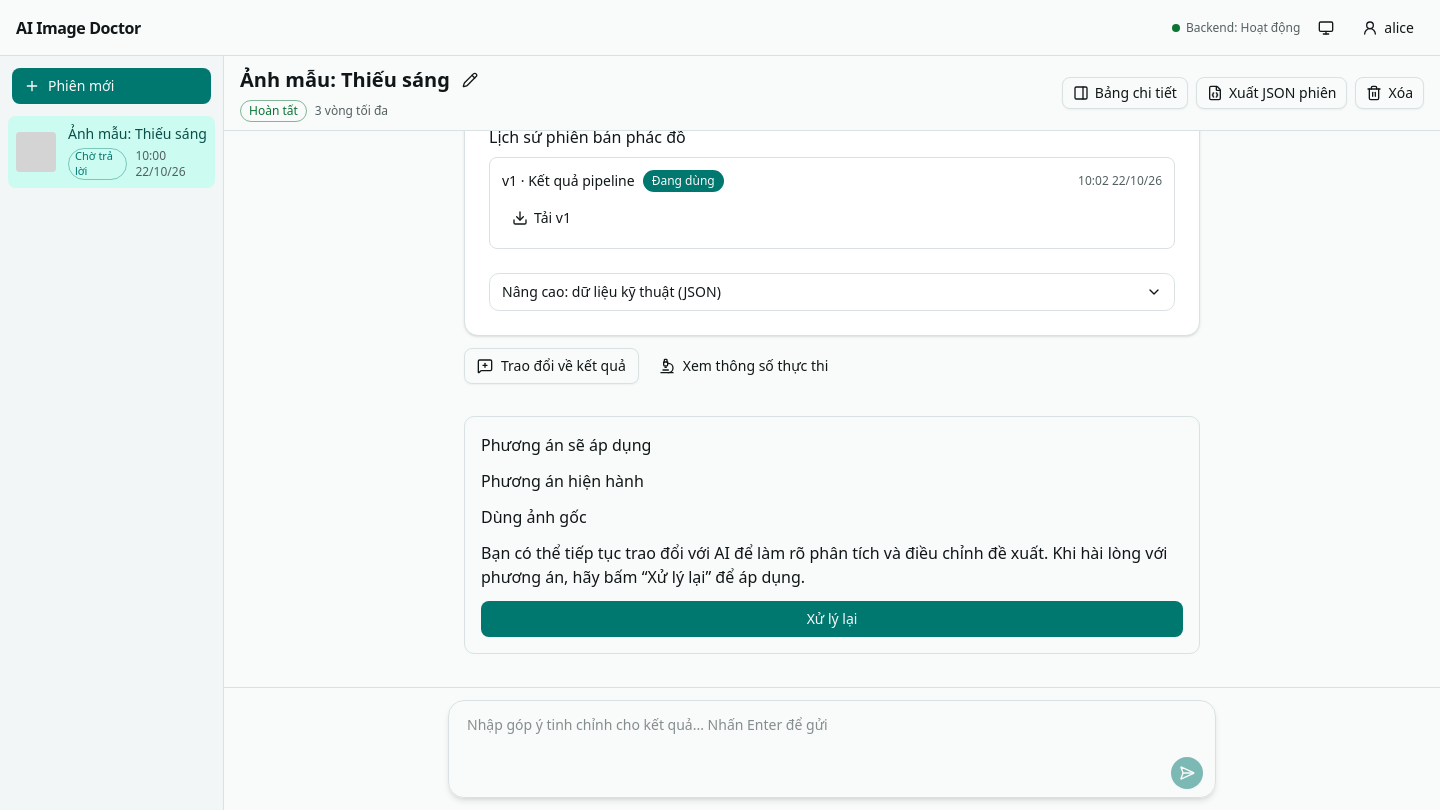
refine by feedback › keeps the feedback text when refining fails
(page scrolled)
Type "sáng hơn" into the text box with placeholder "Nhập góp ý tinh chỉnh cho kết quả... Nhấn Enter để gửi" at (832, 731), box x1=457 y1=709 x2=1207 y2=753
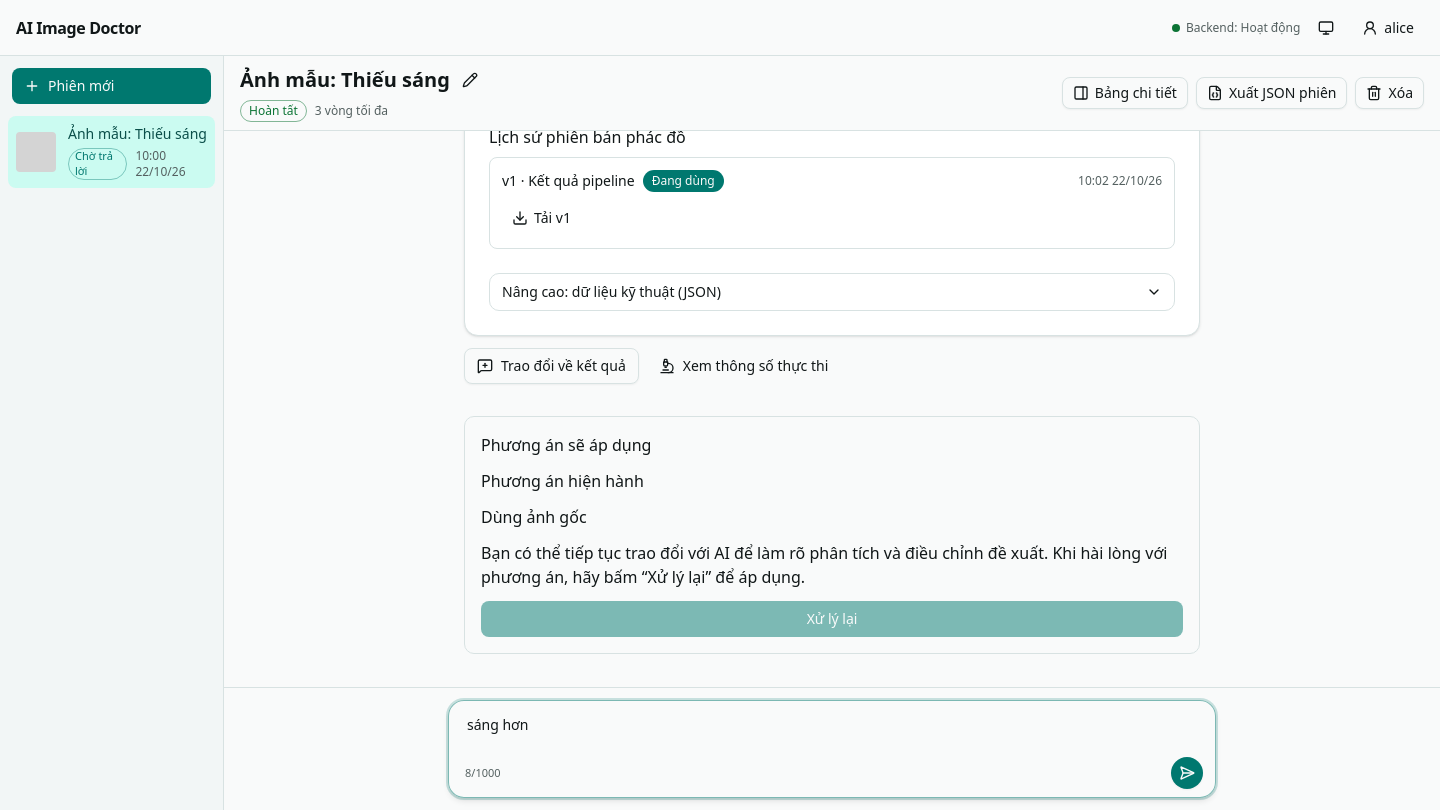
Click the button named "Gửi góp ý tinh chỉnh" at (1187, 773), box x1=1171 y1=757 x2=1203 y2=789
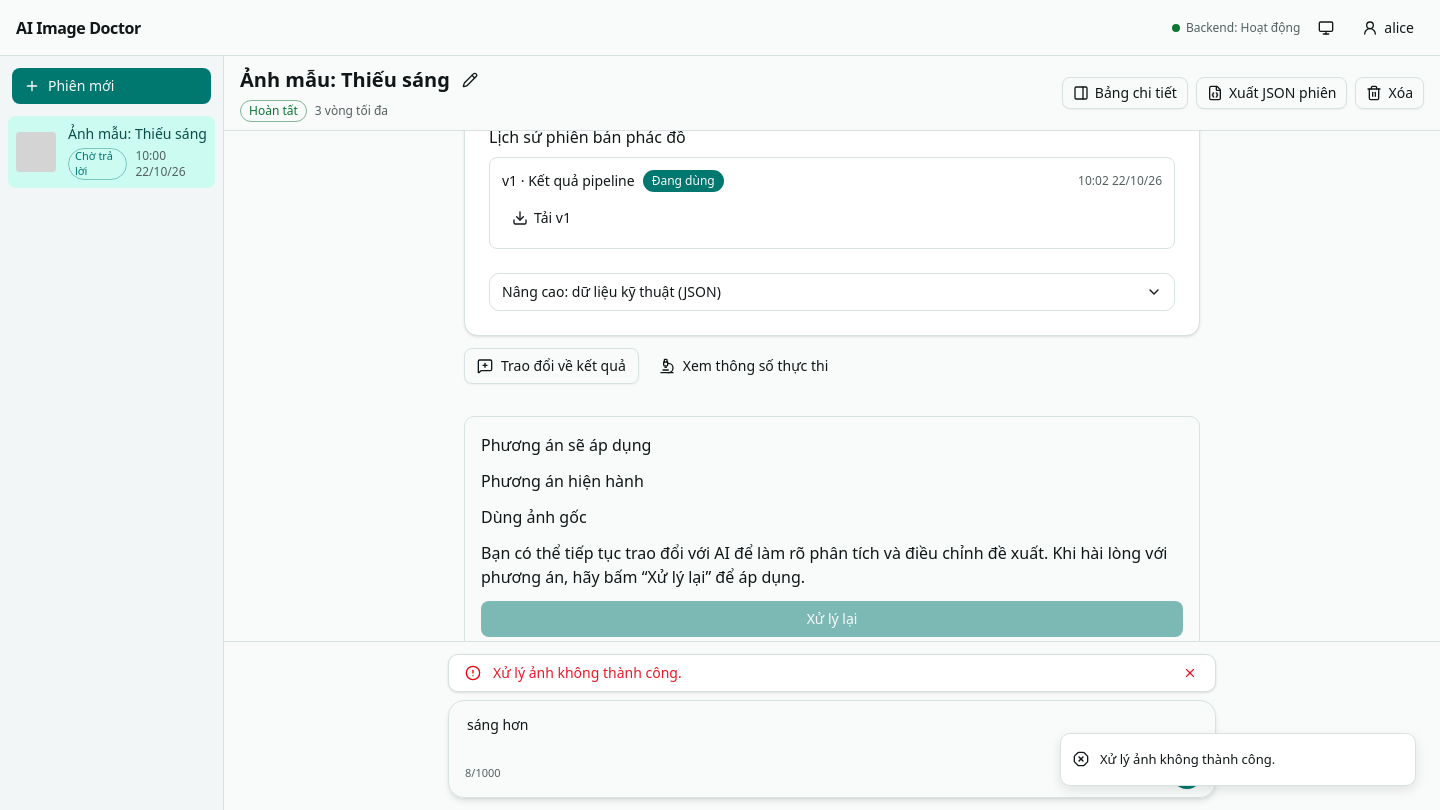
Expected: the 1st text "Xử lý ảnh không thành công." is shown, x1=493 y1=663 x2=682 y2=683
